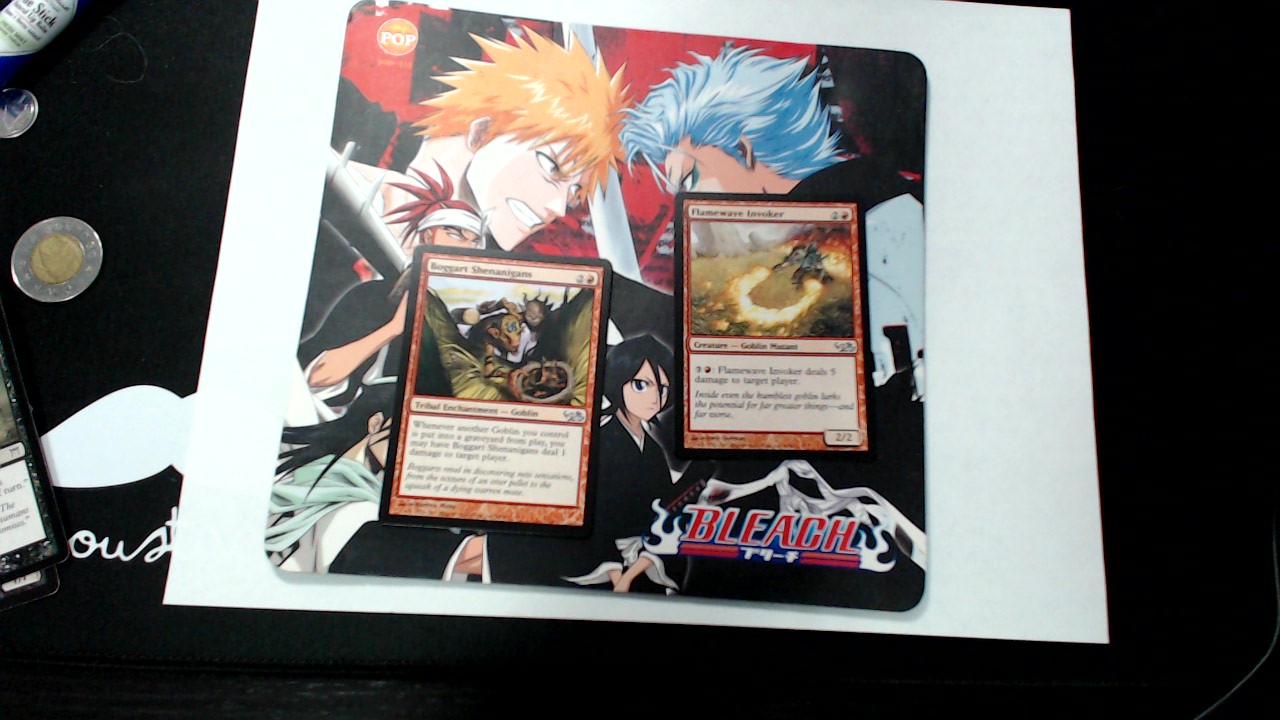MTG Card: (373, 242, 630, 541), (664, 185, 884, 467)
